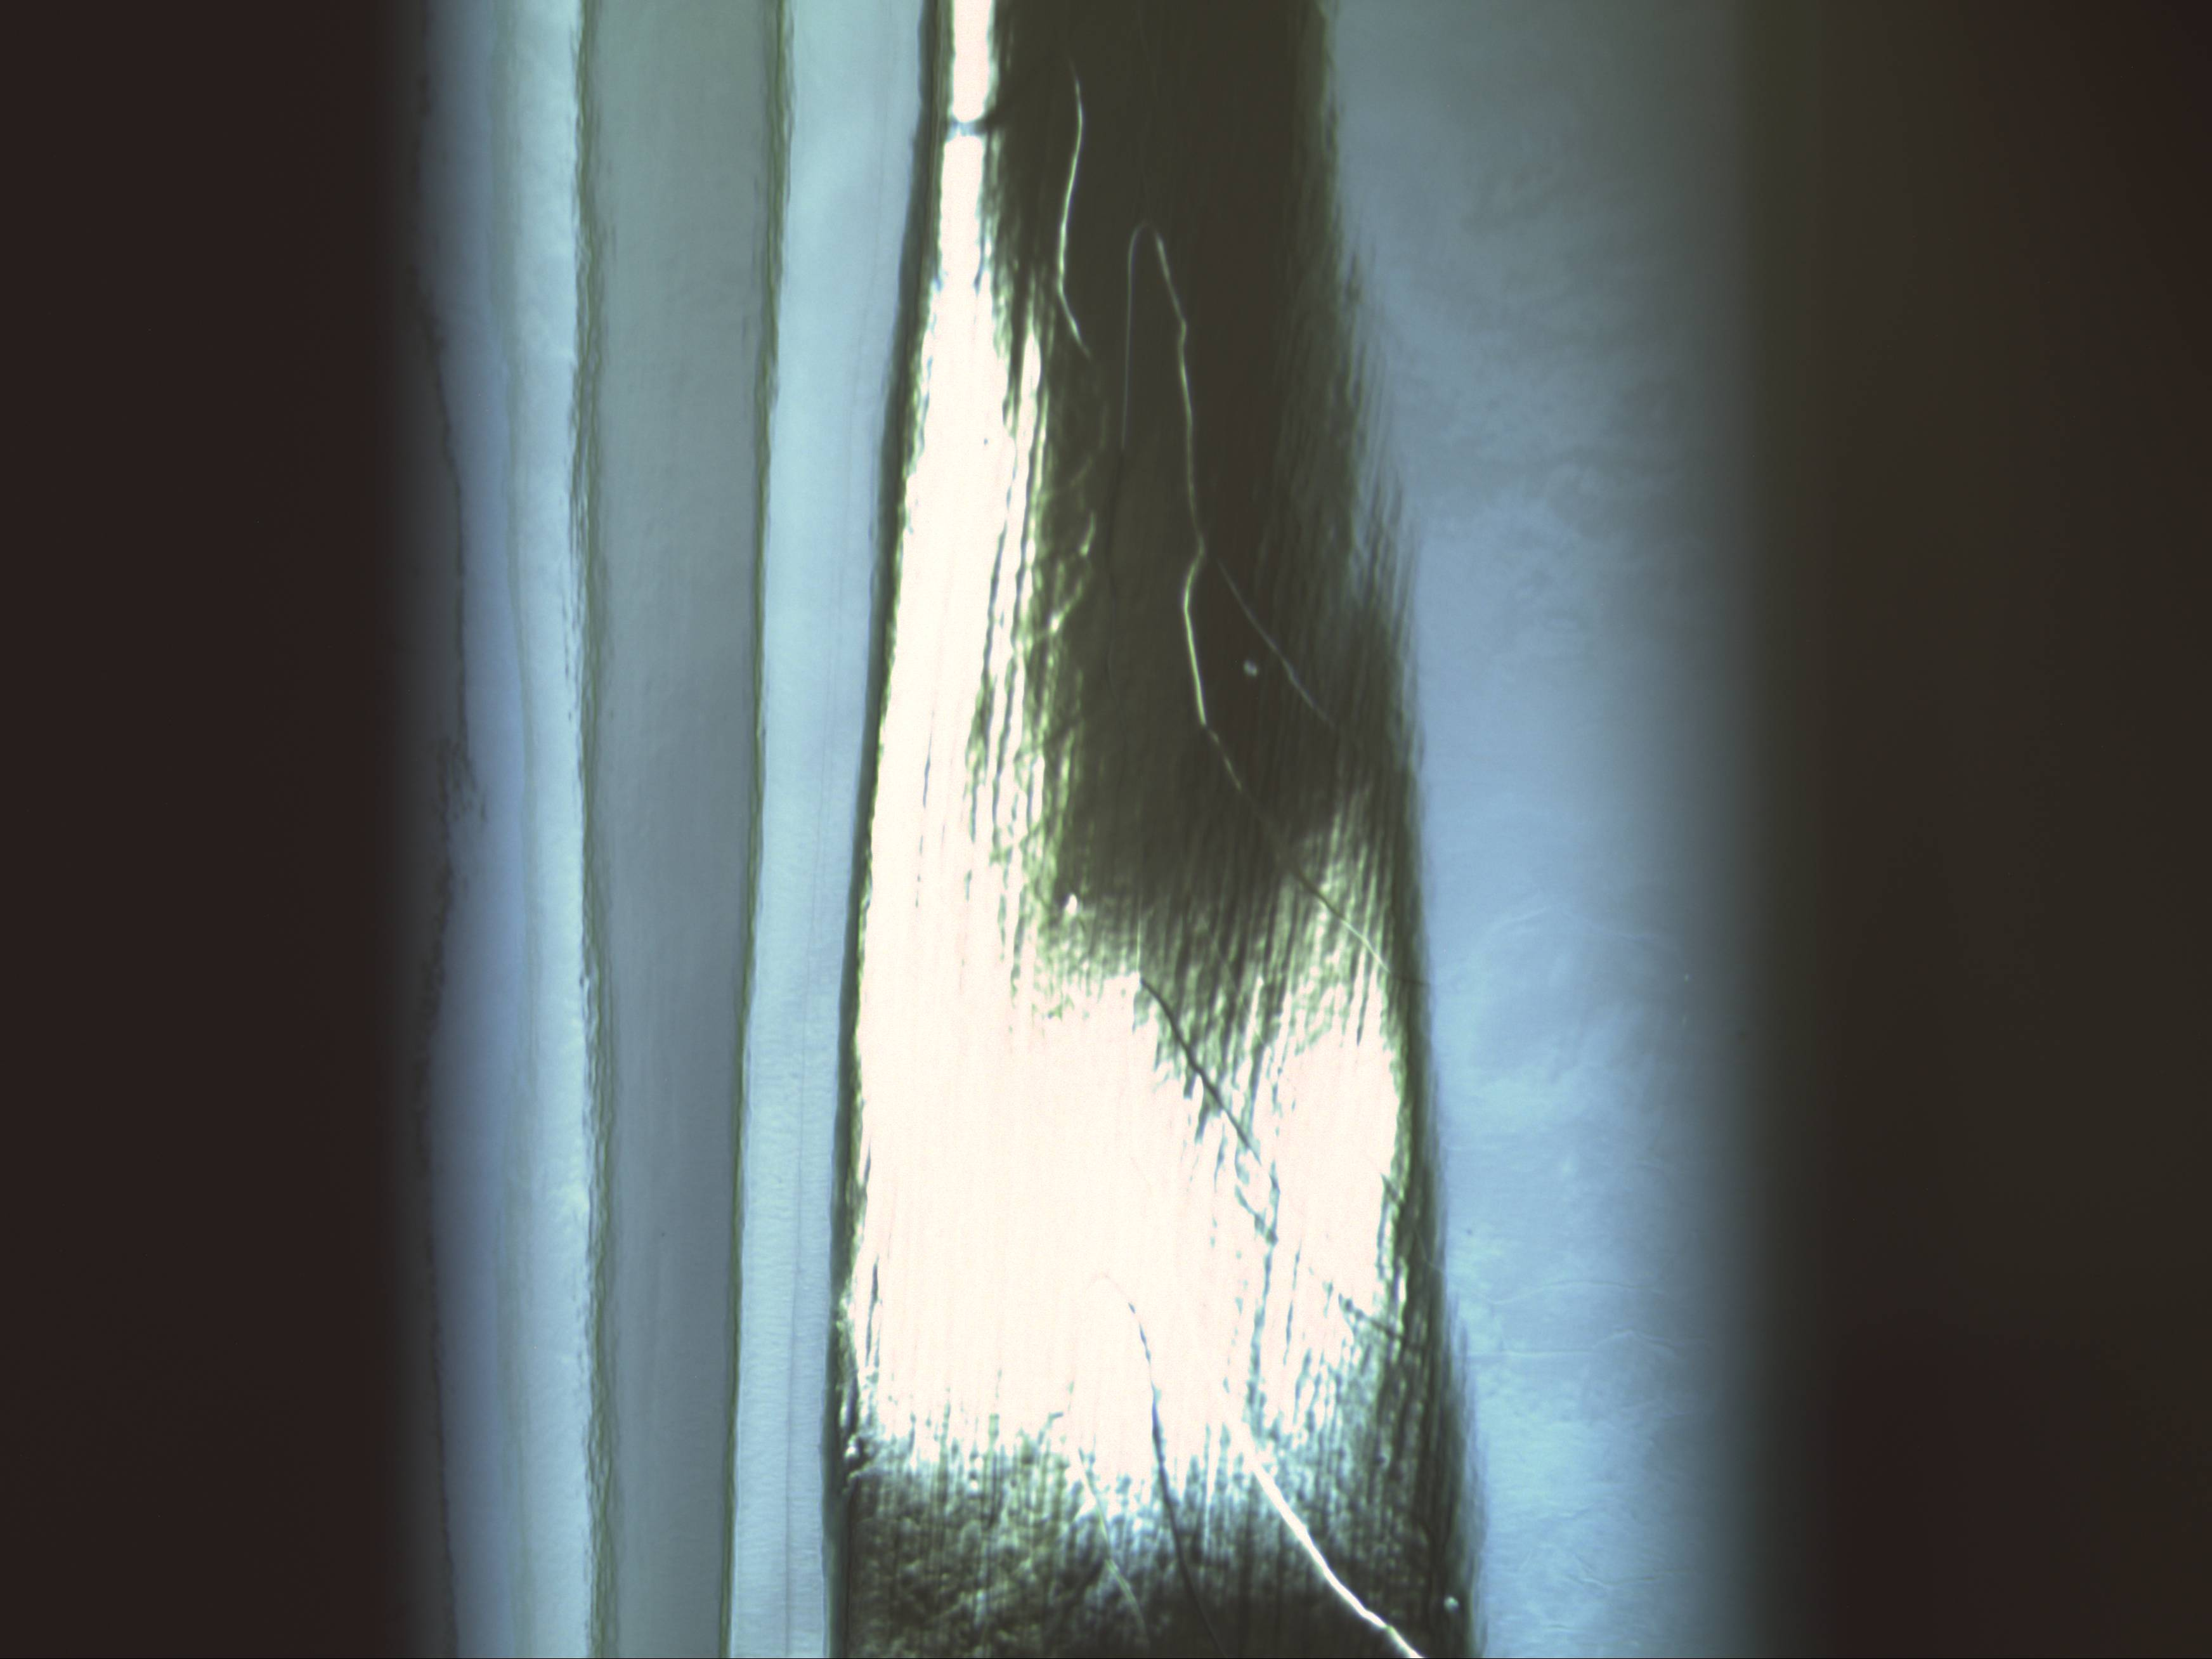defect: (1439, 1588, 1465, 1615)
